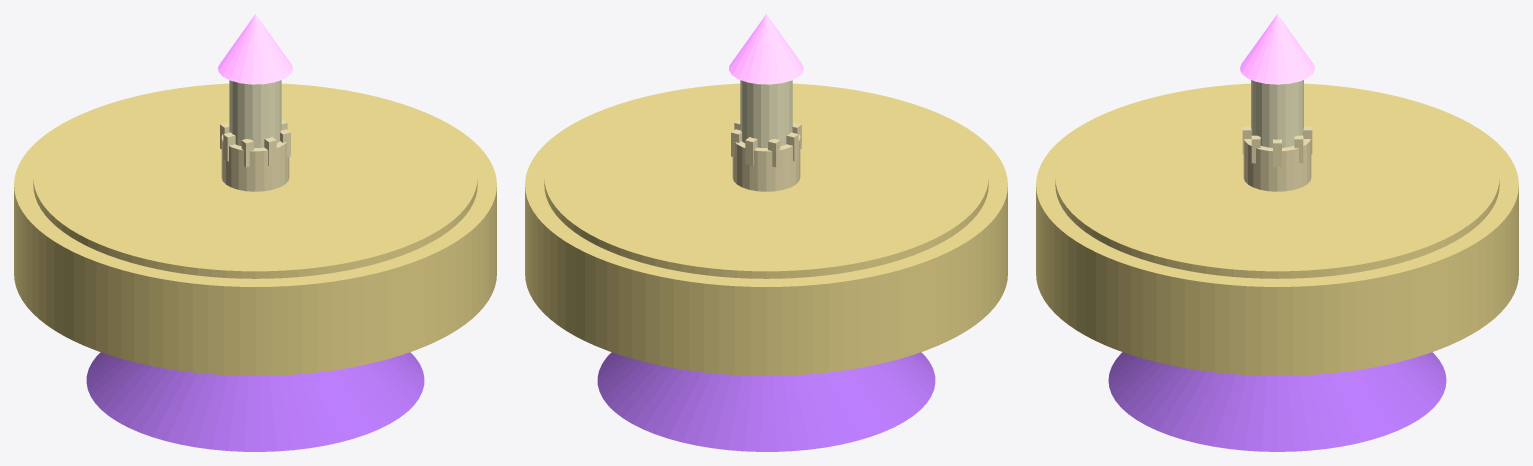
Rendered from 07_sternenzitadelle.glb.
The picture shows the model from 3 angles, left to right: view 1: azimuth 30°, elevation 25°; view 2: azimuth 150°, elevation 25°; view 3: azimuth 270°, elevation 25°; orthographic projection.
Parts seen in each view (by area): view 1: GrassTop, Island, IslandDrip, CitadelTop, CitadelTower2, CitadelTower; view 2: GrassTop, Island, IslandDrip, CitadelTop, CitadelTower2, CitadelTower; view 3: GrassTop, Island, IslandDrip, CitadelTower2, CitadelTop, CitadelTower.
Part boxes in pixels (left/top/right/bottom): GrassTop: left=33, top=84, right=477, bottom=278; Island: left=14, top=83, right=496, bottom=375; IslandDrip: left=86, top=352, right=424, bottom=451; CitadelTop: left=218, top=14, right=292, bottom=84; CitadelTower2: left=229, top=80, right=281, bottom=148; CitadelTower: left=221, top=135, right=289, bottom=191; GrassTop: left=544, top=84, right=988, bottom=278; Island: left=525, top=83, right=1007, bottom=375; IslandDrip: left=597, top=352, right=935, bottom=451; CitadelTop: left=729, top=14, right=803, bottom=84; CitadelTower2: left=740, top=80, right=792, bottom=148; CitadelTower: left=732, top=135, right=800, bottom=191; GrassTop: left=1055, top=84, right=1499, bottom=278; Island: left=1036, top=83, right=1518, bottom=375; IslandDrip: left=1108, top=352, right=1446, bottom=451; CitadelTower2: left=1251, top=80, right=1303, bottom=147; CitadelTop: left=1240, top=14, right=1314, bottom=84; CitadelTower: left=1243, top=139, right=1311, bottom=191.
Size of the model in its own units: 6.4 by 5.36 by 6.4.
